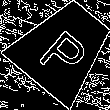P_NE: (32, 17, 94, 79)
